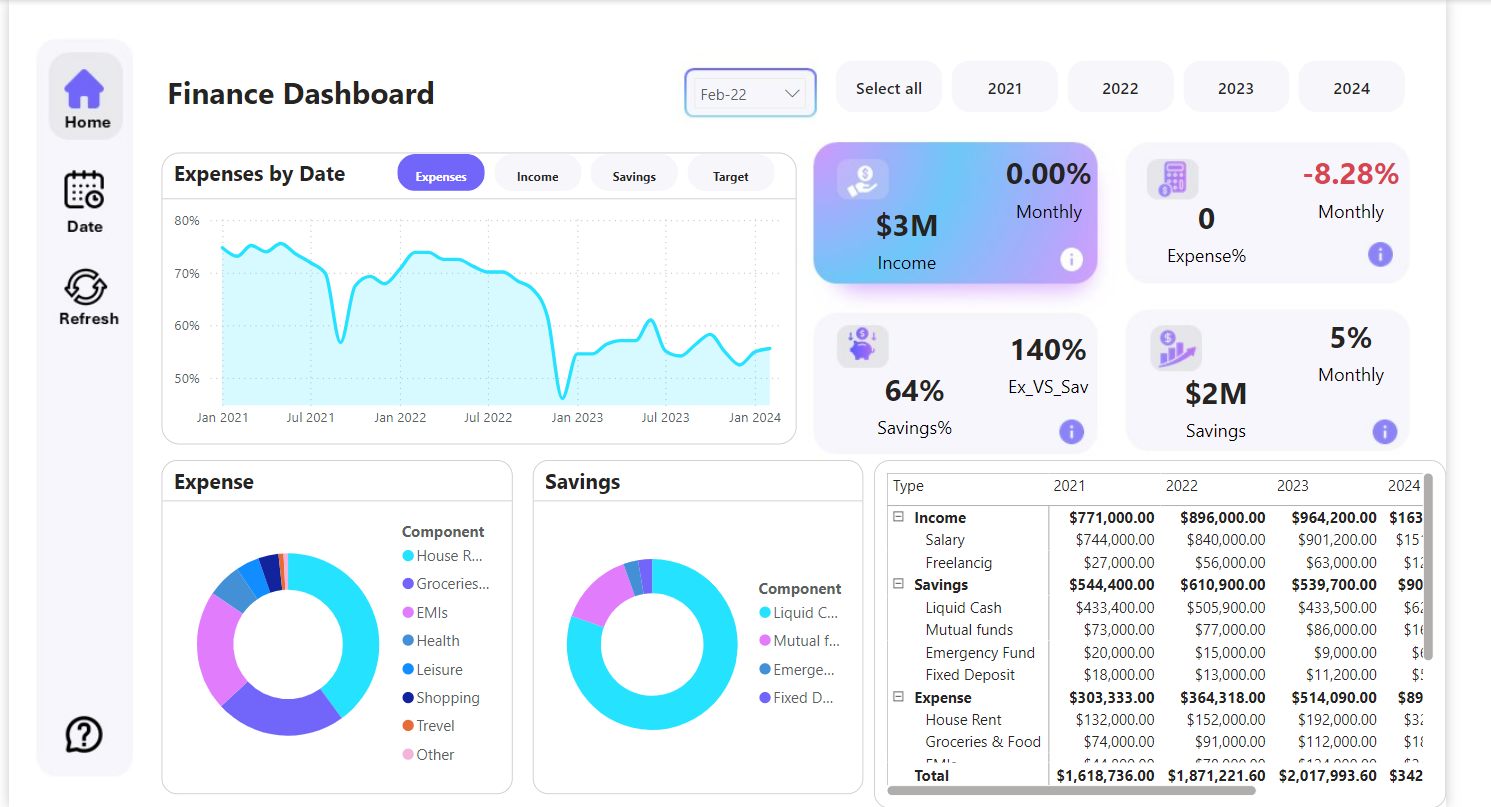

The dashboard page shown, as its layout file describes it:
{"tool":"powerbi","page":{"name":"Page 1","canvas":[1280,720],"ordinal":0},"visuals":[{"type":"card","fields":{"Values":["My_Measure.Savings"]},"box":[1021.6,321.8,106.3,78.9],"z":0},{"type":"card","fields":{"Values":["My_Measure.Expense%"]},"box":[1004.9,165.5,123,78.9],"z":1000},{"type":"card","fields":{"Values":["My_Measure.Savings%"]},"box":[743.8,321.8,126,74.4],"z":2000},{"type":"advancedSlicerVisual","fields":{"Values":["FinData.Year"]},"box":[731.5,49.1,518,56.3],"z":3000},{"type":"donutChart","title":"Savings","fields":{"Category":["FinData.Component"],"Y":["My_Measure.Savings"]},"box":[466,409.7,294.3,297.2],"z":4000},{"type":"donutChart","title":"Expense","fields":{"Category":["FinData.Component"],"Y":["My_Measure.Expense"]},"box":[135.6,409.7,313.1,297.2],"z":5000},{"type":"pivotTable","fields":{"Values":["My_Measure.Total_Value"],"Rows":["FinData.Type","FinData.Component"],"Columns":["FinData.Year"]},"box":[770.4,409.7,509.3,310.2],"z":6000},{"type":"areaChart","fields":{"Category":["FinData.Date.Variation.Date Hierarchy.Year"],"Y":["My_Measure.Line_Chart_Measures"]},"box":[135.6,135.6,565.6,259.7],"z":7000},{"type":"card","fields":{"Values":["My_Measure.Income"]},"box":[743.8,171.5,112.3,80.5],"z":8000},{"type":"advancedSlicerVisual","fields":{"Values":["Line_Selection_Table.Type"]},"box":[341.4,135.1,347.5,39.8],"z":9000},{"type":"textbox","box":[135.6,59.2,313.1,46.2],"z":10000},{"type":"card","fields":{"Values":["My_Measure.Expenses_Monthly_Gr"]},"box":[1127.9,119.9,135.1,91.1],"z":11000},{"type":"slicer","fields":{"Values":["Selected_Date.Month_Year"]},"box":[599.6,59.2,119.9,44],"z":12000},{"type":"card","fields":{"Values":["My_Measure.Ex_VS_Sav"]},"box":[800,265.7,250.5,112.3],"z":13000},{"type":"card","fields":{"Values":["My_Measure.Income_Monthly_Gr"]},"box":[859.2,119.9,133.6,91.1],"z":14000},{"type":"card","fields":{"Values":["My_Measure.Savings_Monthly_Gr"]},"box":[1127.9,265.7,135.1,91.1],"z":15000},{"type":"actionButton","box":[51.9,150,28.9,34.6],"z":16000},{"type":"actionButton","box":[51.9,232.8,36.2,39.8],"z":18000}]}

Visuals, with their boxes on the page's 1280x720 design canvas (x1, y1, x2, y2). These are canvas units, not pixel positions in the 1491x807 screenshot, which may show the page scaled, cropped or inside an application window:
card - My_Measure.Savings: 1022:322:1128:401
card - My_Measure.Expense%: 1005:166:1128:244
card - My_Measure.Savings%: 744:322:870:396
advancedSlicerVisual - FinData.Year: 732:49:1250:105
"Savings" donutChart: 466:410:760:707
"Expense" donutChart: 136:410:449:707
pivotTable - My_Measure.Total_Value x FinData.Type: 770:410:1280:720
areaChart - FinData.Date.Variation.Date Hierarchy.Year x My_Measure.Line_Chart_Measures: 136:136:701:395
card - My_Measure.Income: 744:172:856:252
advancedSlicerVisual - Line_Selection_Table.Type: 341:135:689:175
textbox: 136:59:449:105
card - My_Measure.Expenses_Monthly_Gr: 1128:120:1263:211
slicer - Selected_Date.Month_Year: 600:59:720:103
card - My_Measure.Ex_VS_Sav: 800:266:1050:378
card - My_Measure.Income_Monthly_Gr: 859:120:993:211
card - My_Measure.Savings_Monthly_Gr: 1128:266:1263:357
actionButton: 52:150:81:185
actionButton: 52:233:88:273
